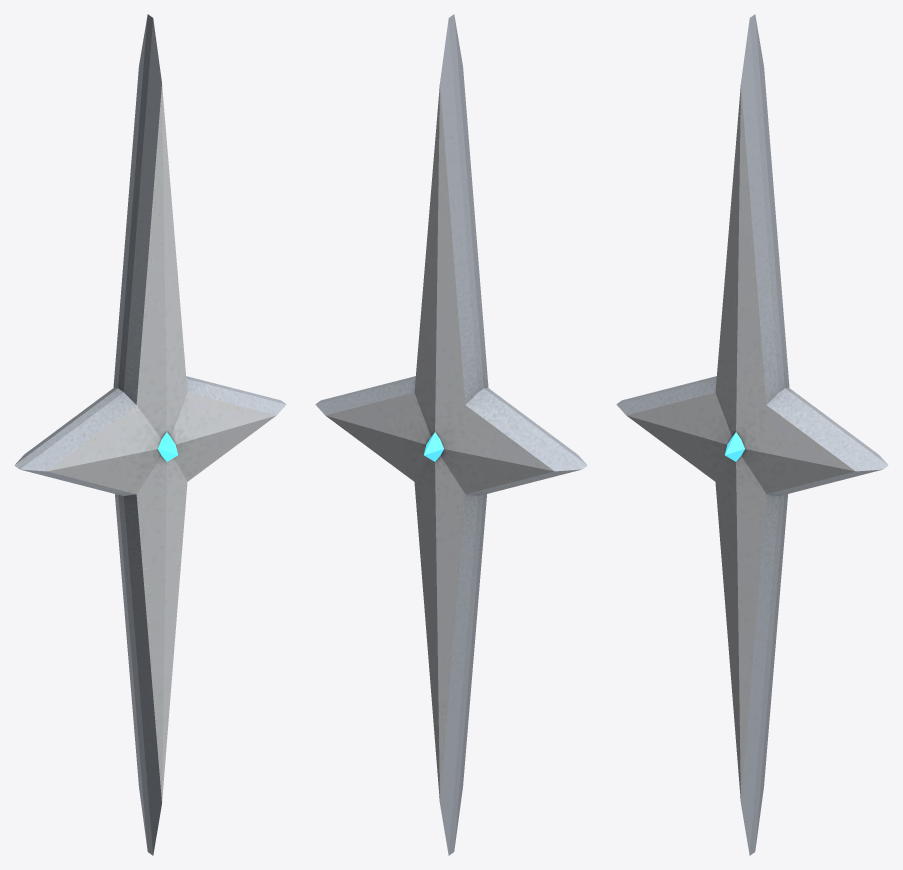
3 renders of one model, left to right at view 1: azimuth 30°, elevation 25°; view 2: azimuth 150°, elevation 25°; view 3: azimuth 330°, elevation 25°, orthographic.
Parts seen in each view (by area): view 1: Cool_mirror_chrome, Silver_bevel; view 2: Cool_mirror_chrome, Silver_bevel; view 3: Cool_mirror_chrome, Silver_bevel.
Boxes of the visible parts, <box> form: Cool_mirror_chrome: <box>47,84,276,801</box>; Silver_bevel: <box>14,14,286,855</box>; Cool_mirror_chrome: <box>325,84,554,801</box>; Silver_bevel: <box>315,14,587,855</box>; Cool_mirror_chrome: <box>626,84,855,801</box>; Silver_bevel: <box>616,14,888,855</box>.
Size of the model in its own units: 0.3333 by 1 by 0.12.
Materials: 3 (2 with a texture image).
